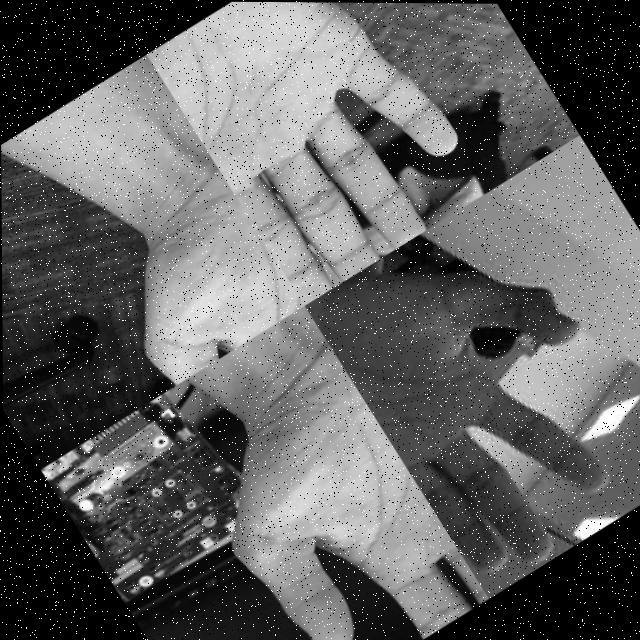hand: (303, 187, 640, 597), (149, 323, 487, 640), (144, 1, 492, 305), (52, 132, 303, 393)
